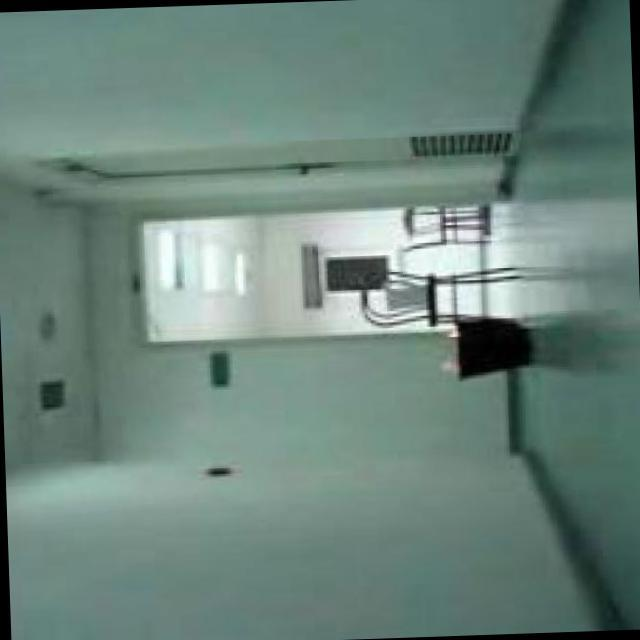Fire: (439, 325, 460, 376)
